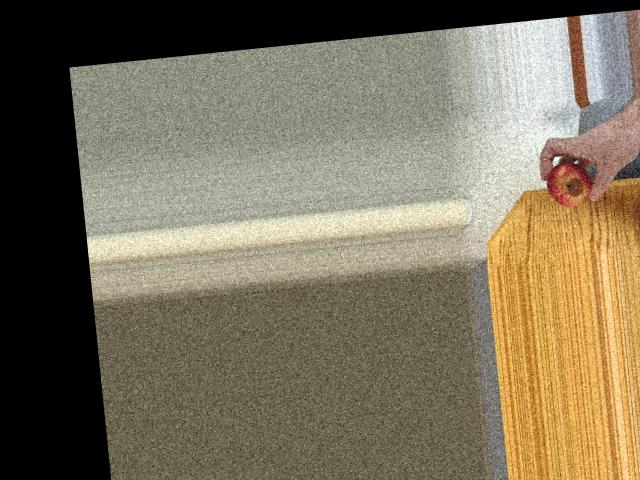apple: (544, 160, 601, 209)
